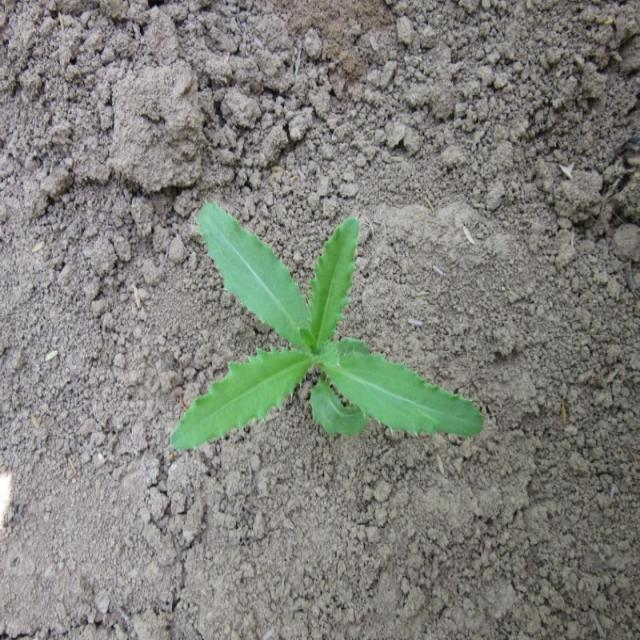cs: (167, 196, 486, 459)
